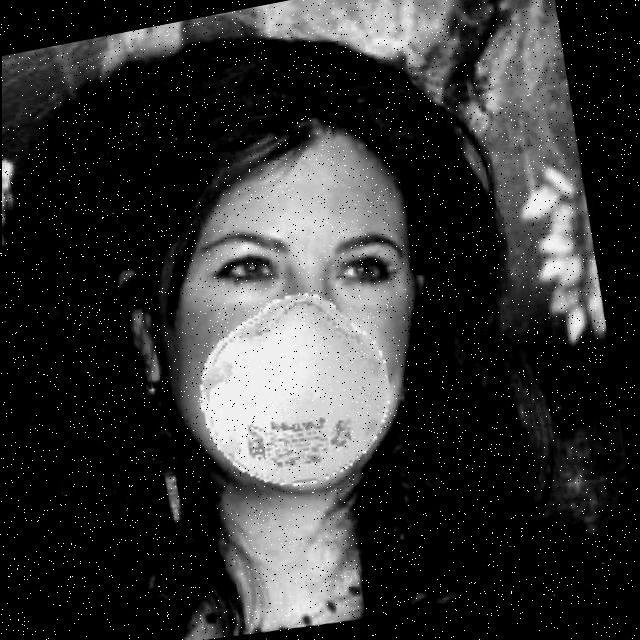mask: (206, 305, 376, 484)
no_gloves: (86, 38, 423, 166)
